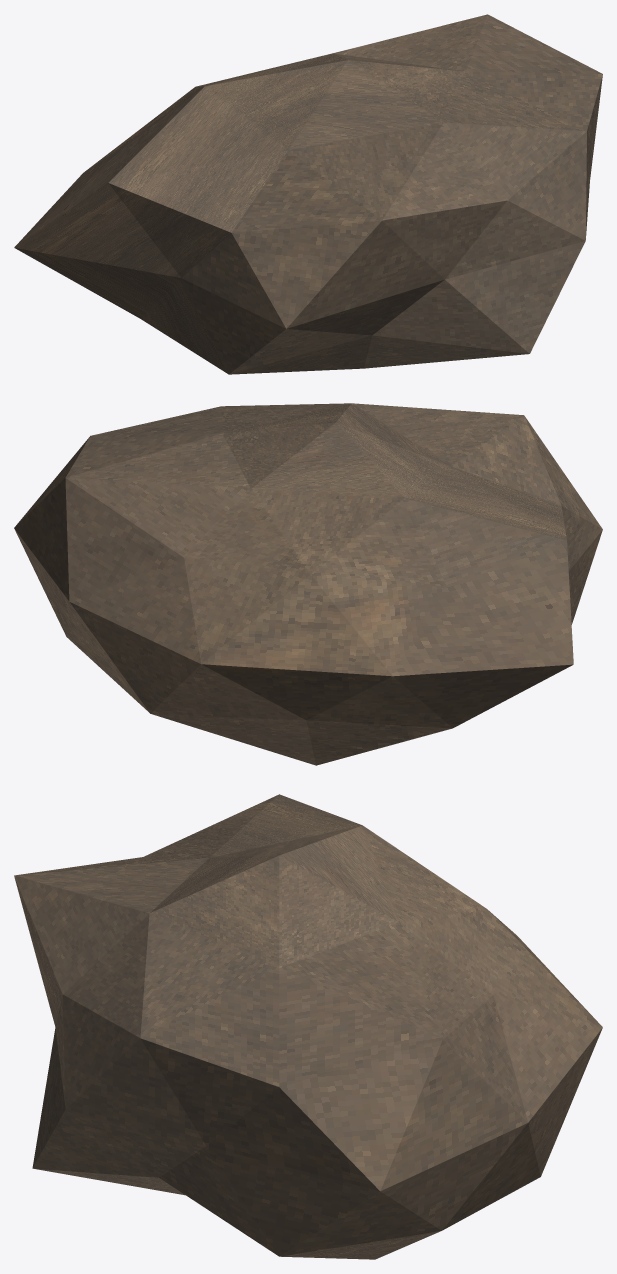
File: rock_1.glb
3 renders of one model, top to bottom at view 1: azimuth 30°, elevation 25°; view 2: azimuth 150°, elevation 25°; view 3: azimuth 270°, elevation 25°, orthographic. The views are drawn at different scales.
Parts seen in each view (by area): view 1: rock_1; view 2: rock_1; view 3: rock_1.
Boxes of the visible parts, left/top/right/bottom form: rock_1: left=14, top=14, right=602, bottom=374; rock_1: left=14, top=403, right=602, bottom=765; rock_1: left=14, top=794, right=602, bottom=1259.
Size of the model in its own units: 2.07 by 1 by 1.57.
1 material, 1 textured.
